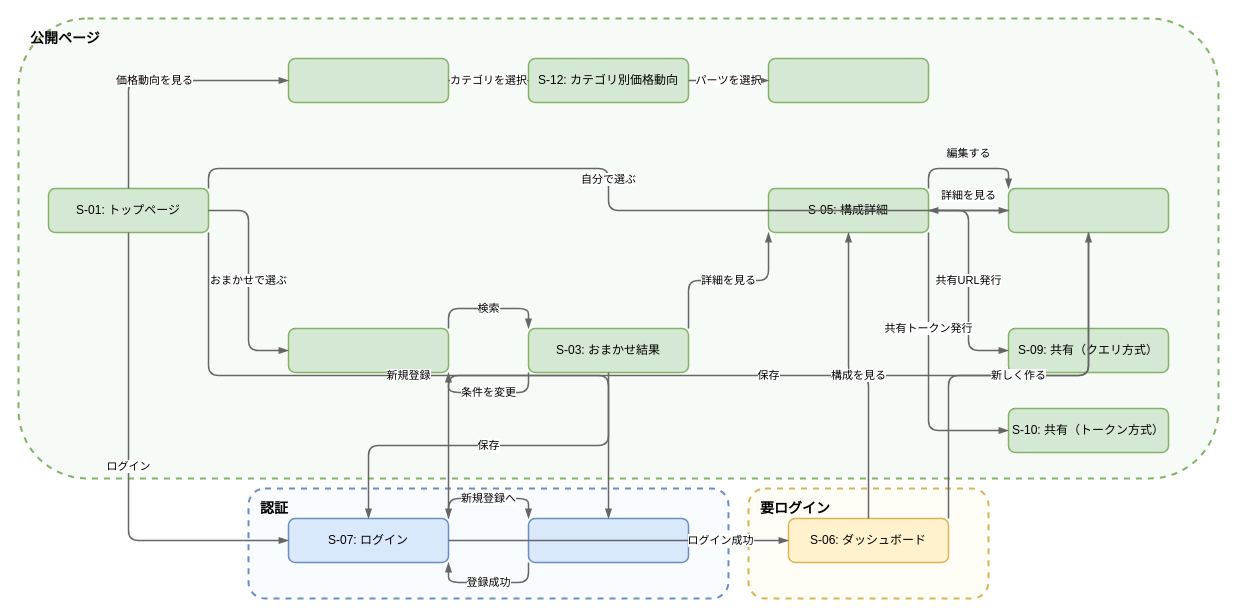
Image size: 1236x616. Some labels were removed from this diagram. The shapes that lost their labels are listed below. From the top down, each one's centre as x and y in pixels, then its label:
the point at 368,80: S-11: 価格動向一覧
the point at 848,80: S-13: パーツ別詳細
the point at 1088,210: S-04: カスタム構成
the point at 368,350: S-02: おまかせ構成
the point at 608,540: S-08: 新規登録
